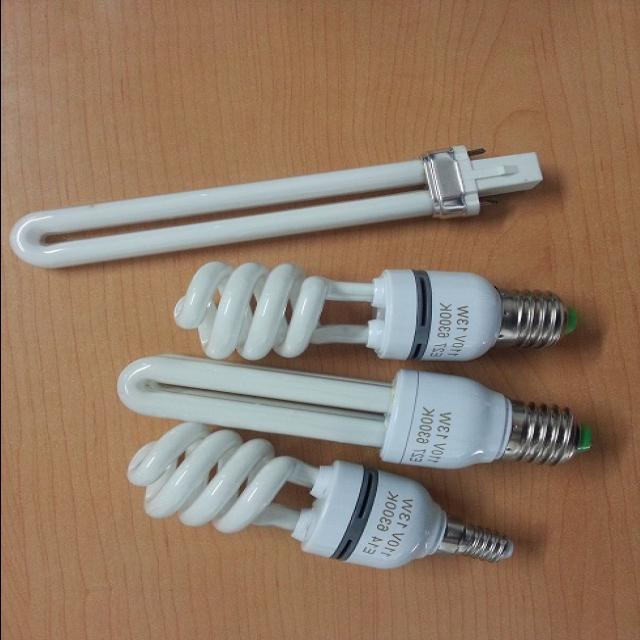non-organik: (8, 135, 608, 602)
